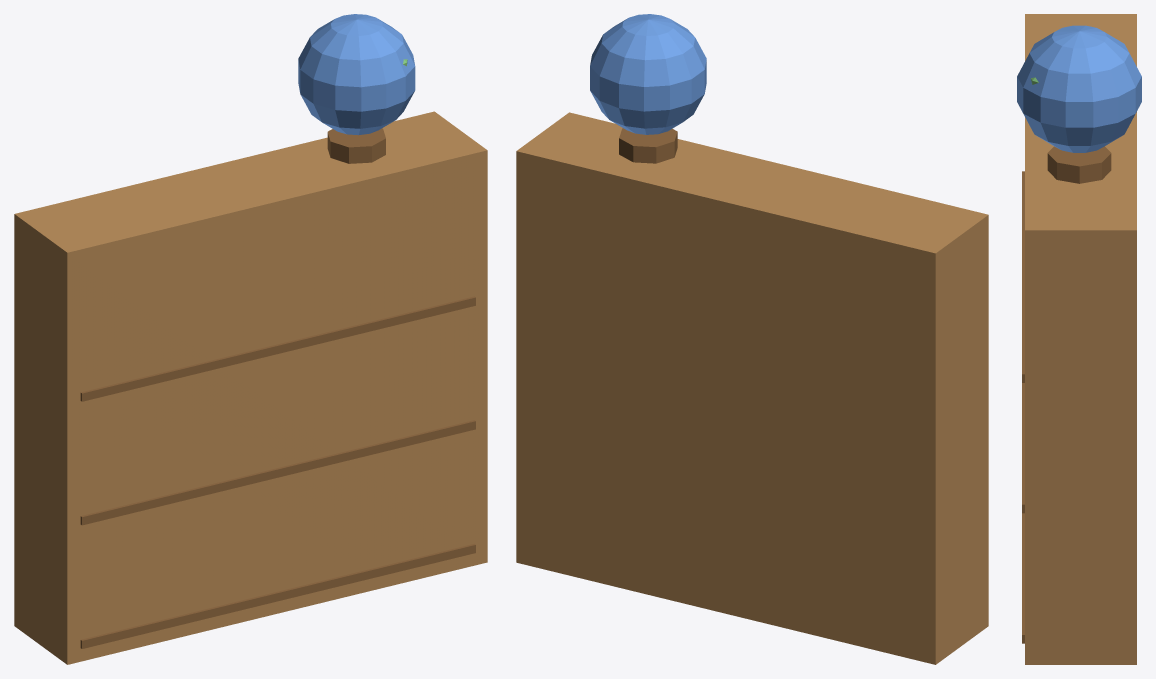
File: classroom_bookcase.glb
The picture shows the model from 3 angles, left to right: view 1: azimuth 30°, elevation 25°; view 2: azimuth 150°, elevation 25°; view 3: azimuth 270°, elevation 25°; orthographic projection. The views are drawn at different scales.
Visible parts, largest first — view 1: classroom_bookcase; view 2: classroom_bookcase; view 3: classroom_bookcase.
Boxes of the visible parts, x1,y1,x2,y2 form: classroom_bookcase: (14, 14, 487, 664); classroom_bookcase: (516, 14, 988, 664); classroom_bookcase: (1017, 14, 1141, 664).
Size of the model in its own units: 1.6 by 2 by 0.39.
